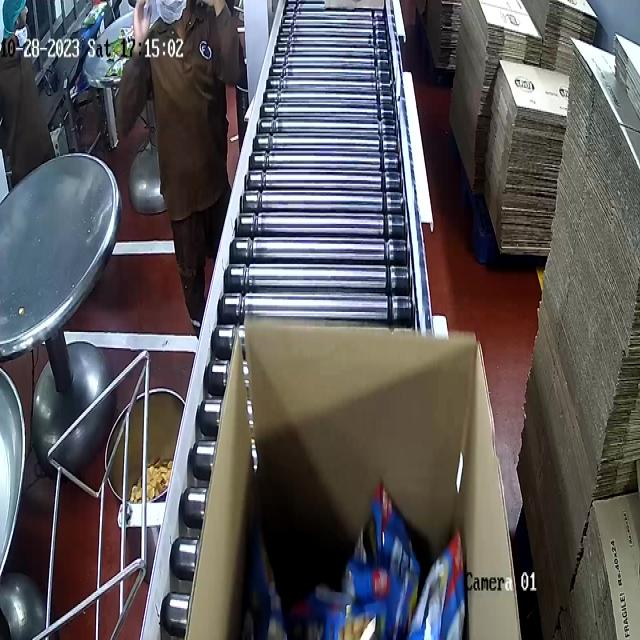PAPRIKA: (249, 489, 486, 640)
